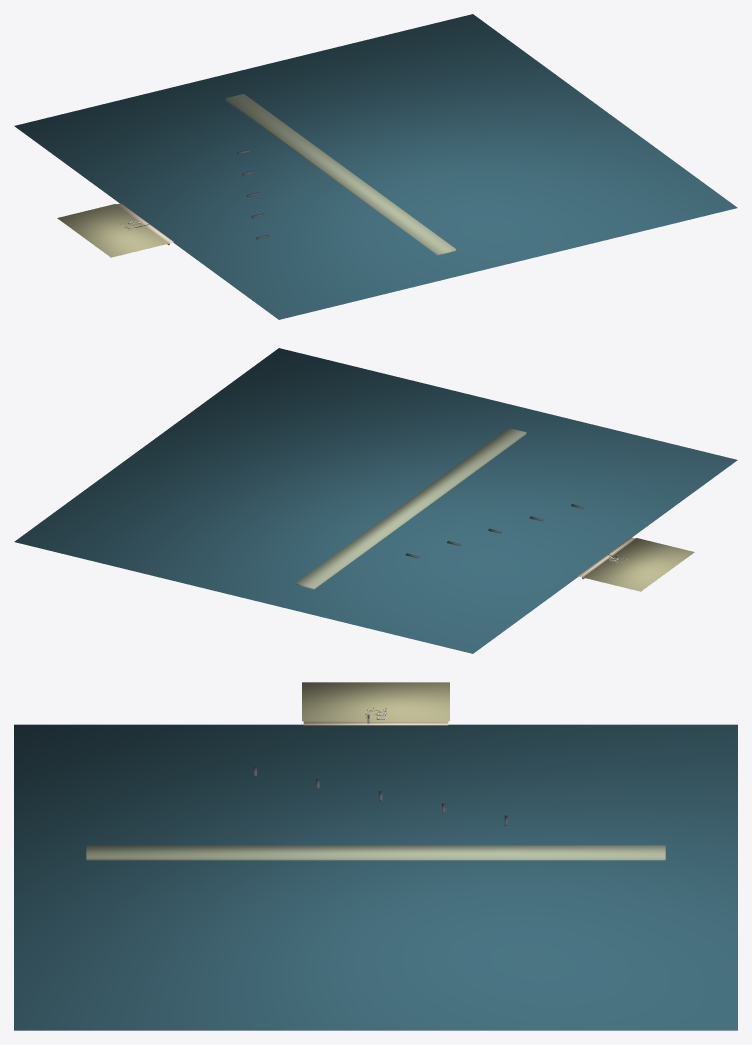
File: canakkale.glb
The picture shows the model from 3 angles, top to bottom: view 1: azimuth 30°, elevation 25°; view 2: azimuth 150°, elevation 25°; view 3: azimuth 270°, elevation 25°; orthographic projection. The views are drawn at different scales.
Visible parts, largest first — view 1: far_44_0, far_37_0, far_-4_0; view 2: far_44_0, far_37_0, far_-4_0; view 3: far_44_0, far_37_0, far_-4_0, far_2_0.
Boxes of the visible parts, x1,y1,x2,y2 form: far_44_0: (14,14,737,319); far_37_0: (225,94,455,255); far_-4_0: (57,204,168,257); far_44_0: (14,348,737,653); far_37_0: (296,428,526,589); far_-4_0: (583,538,694,591); far_44_0: (14,724,737,1030); far_37_0: (86,845,665,860); far_-4_0: (302,682,449,721); far_2_0: (303,722,448,725).
Size of the model in its own units: 3408 by 52 by 3000.
Materials: 39 (5 with a texture image).
